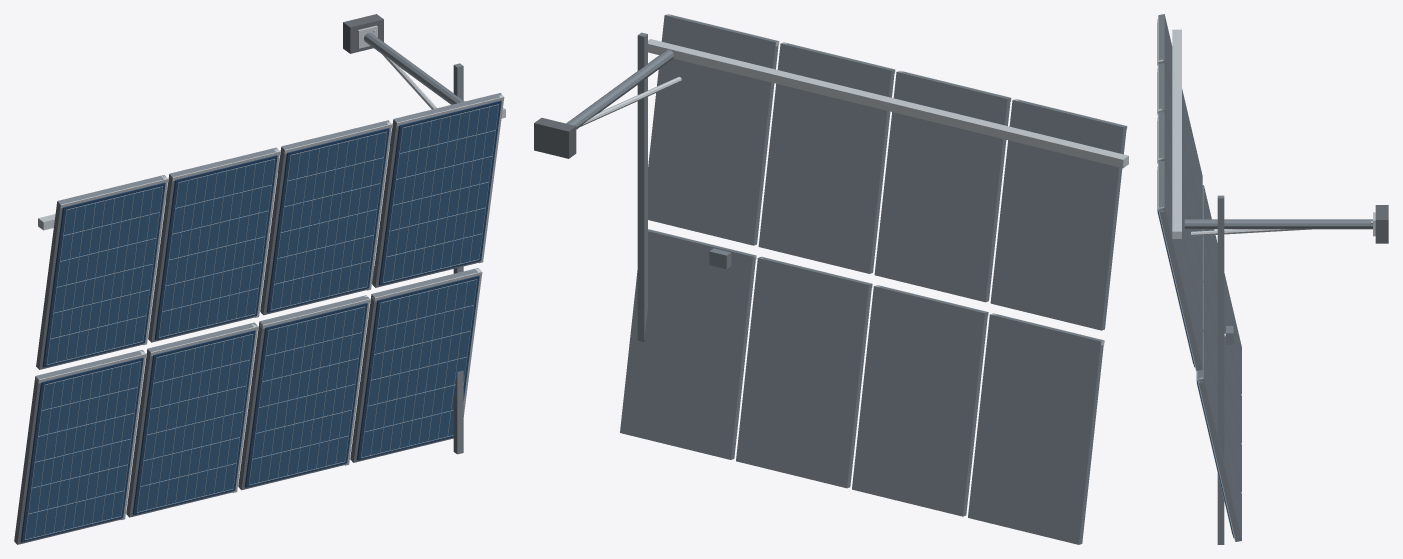
Rendered from solar_panel_array.glb.
The picture shows the model from 3 angles, left to right: view 1: azimuth 30°, elevation 25°; view 2: azimuth 150°, elevation 25°; view 3: azimuth 270°, elevation 25°; orthographic projection. The views are drawn at different scales.
Parts seen in each view (by area): view 1: PV glass 0-1, PV glass 1-1, PV glass 1-0, PV glass 1-2, PV glass 0-2, PV glass 0-0, PV glass 1-3, PV glass 0-3, Panel substrate 0-1, Panel substrate 1-1, Panel substrate 1-0, Panel substrate 1-2 (+7 smaller); view 2: Panel substrate 0-2, Panel substrate 0-1, Panel substrate 0-0, Panel substrate 0-3, Panel substrate 1-0, Panel substrate 1-1, Panel substrate 1-2, Panel substrate 1-3, Continuous mounting rail, Array cross rail, Ballast mounting foot, Steel support post; view 3: Panel substrate 1-3, Panel substrate 0-3, Array cross rail, Continuous mounting rail, Steel support post, Panel substrate 1-0, Panel substrate 1-2, Panel substrate 0-2, Panel substrate 0-1, Panel substrate 1-1, Panel substrate 0-0, Ballast mounting foot (+1 smaller).
Part boxes in pixels (<box>): PV glass 0-1: <box>132,330,255,515</box>; PV glass 1-1: <box>154,155,277,340</box>; PV glass 1-0: <box>42,182,165,367</box>; PV glass 1-2: <box>266,128,389,312</box>; PV glass 0-2: <box>244,303,367,487</box>; PV glass 0-0: <box>20,357,143,542</box>; PV glass 1-3: <box>378,100,501,285</box>; PV glass 0-3: <box>356,275,479,460</box>; Panel substrate 0-1: <box>126,322,257,517</box>; Panel substrate 1-1: <box>148,147,278,342</box>; Panel substrate 1-0: <box>36,175,165,369</box>; Panel substrate 1-2: <box>260,120,389,315</box>; Panel substrate 0-2: <box>736,257,872,488</box>; Panel substrate 0-1: <box>852,285,988,516</box>; Panel substrate 0-0: <box>968,314,1103,544</box>; Panel substrate 0-3: <box>620,229,755,459</box>; Panel substrate 1-0: <box>990,100,1126,330</box>; Panel substrate 1-1: <box>874,71,1010,302</box>; Panel substrate 1-2: <box>758,43,894,273</box>; Panel substrate 1-3: <box>648,14,778,245</box>; Continuous mounting rail: <box>648,39,1128,168</box>; Array cross rail: <box>637,32,647,341</box>; Ballast mounting foot: <box>534,117,576,158</box>; Steel support post: <box>566,49,673,129</box>; Panel substrate 1-3: <box>1158,161,1202,370</box>; Panel substrate 0-3: <box>1198,332,1241,541</box>; Array cross rail: <box>1217,195,1224,544</box>; Continuous mounting rail: <box>1172,29,1181,238</box>; Steel support post: <box>1184,219,1372,229</box>; Panel substrate 1-0: <box>1158,14,1202,219</box>; Panel substrate 1-2: <box>1158,112,1202,320</box>; Panel substrate 0-2: <box>1202,283,1241,491</box>; Panel substrate 0-1: <box>1202,235,1241,442</box>; Panel substrate 1-1: <box>1158,63,1202,271</box>; Panel substrate 0-0: <box>1202,185,1241,393</box>; Ballast mounting foot: <box>1375,205,1388,243</box>.
Bounding box in the file's own units: 4.39 × 3.52 × 2.12.
